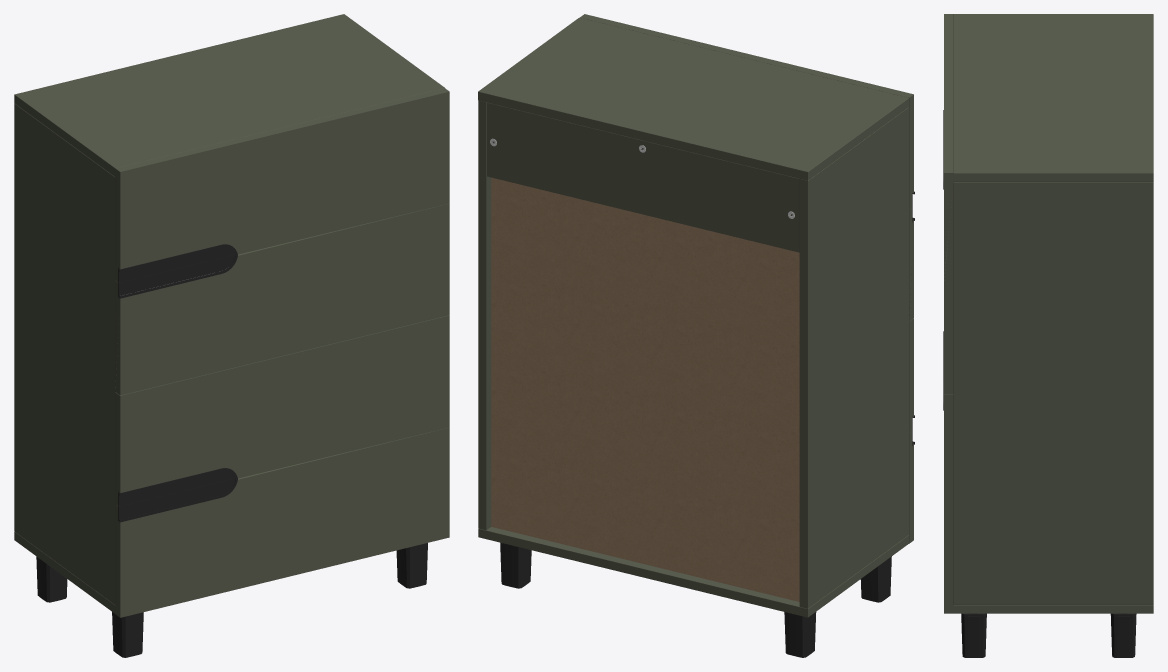
3 renders of one model, left to right at view 1: azimuth 30°, elevation 25°; view 2: azimuth 150°, elevation 25°; view 3: azimuth 270°, elevation 25°, orthographic.
Parts seen in each view (by area): view 1: SketchUp.606, Cube.003, Cube.006, SketchUp.379, SketchUp.001, SketchUp.411, SketchUp.250, group_0.326, group_0.327, group_0.329, Cube.001; view 2: SketchUp.233, Cube.003, Cube.006, Cube.004, Cube.002, Cube.001, SketchUp.606, group_0.329, group_0.328, group_0.326; view 3: Cube.002, Cube.006, SketchUp.606, Cube.001, group_0.327, group_0.328.
Boxes of the visible parts, x1,y1,x2,y2 form: SketchUp.606: (115,88,449,617); Cube.003: (14,103,118,604); Cube.006: (14,14,444,176); SketchUp.379: (118,254,237,298); SketchUp.001: (118,478,237,522); SketchUp.411: (118,244,237,282); SketchUp.250: (118,468,237,506); group_0.326: (112,612,143,657); group_0.327: (396,543,427,588); group_0.329: (36,556,67,602); Cube.001: (14,531,115,613); SketchUp.233: (491,177,799,601); Cube.003: (799,107,908,608); Cube.006: (478,17,908,180); Cube.004: (487,102,799,252); Cube.002: (478,100,491,530); Cube.001: (478,527,908,617); SketchUp.606: (580,14,913,543); group_0.329: (784,612,816,657); group_0.328: (500,542,531,588); group_0.326: (860,556,891,602); Cube.002: (953,182,1153,604); Cube.006: (953,14,1153,181); SketchUp.606: (944,14,953,613); Cube.001: (953,605,1153,613); group_0.327: (961,613,986,657); group_0.328: (1110,613,1136,657).
Size of the model in its own units: 0.6985 by 1 by 0.389.
16 materials, 1 textured.
